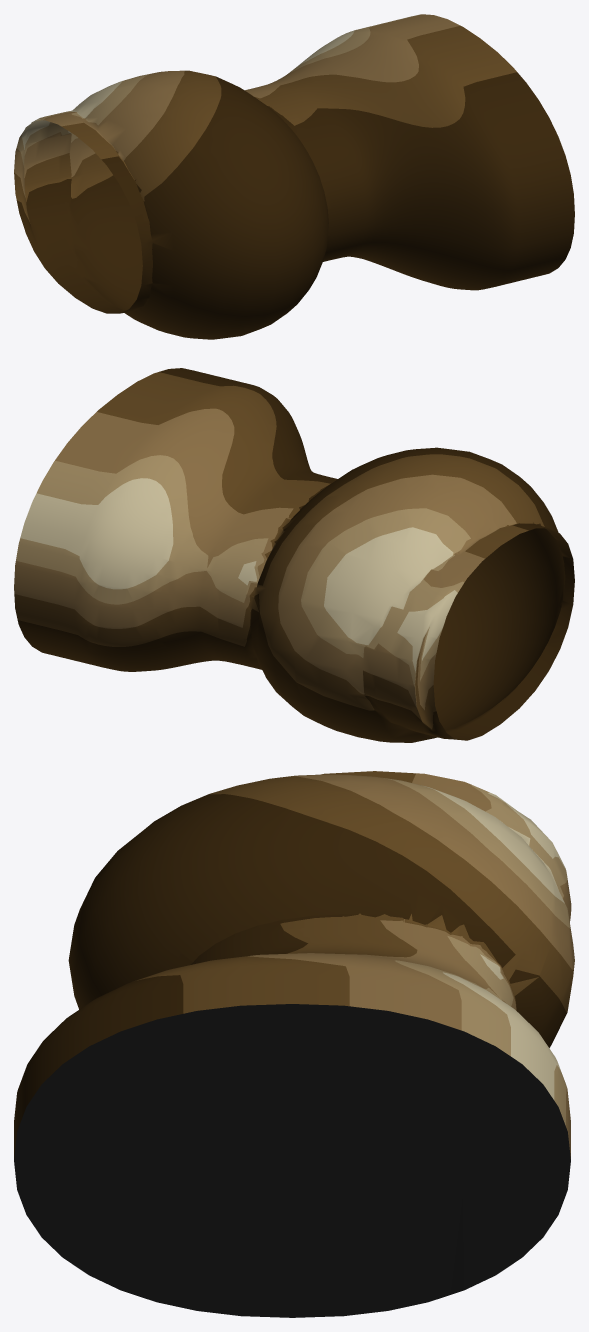
The model's file is tusk_arm_b_271.glb.
3 views of the same model, one above another, from view 1: azimuth 30°, elevation 25°; view 2: azimuth 150°, elevation 25°; view 3: azimuth 270°, elevation 25° (orthographic). The views are drawn at different scales.
Visible parts, largest first — view 1: tusk_arm_b_271; view 2: tusk_arm_b_271; view 3: tusk_arm_b_271.
Part boxes in pixels (x1,y1,x2,y2): tusk_arm_b_271: (14, 14, 574, 339); tusk_arm_b_271: (14, 368, 574, 742); tusk_arm_b_271: (14, 771, 574, 1317).
Size of the model in its own units: 24 by 14 by 21.05.
